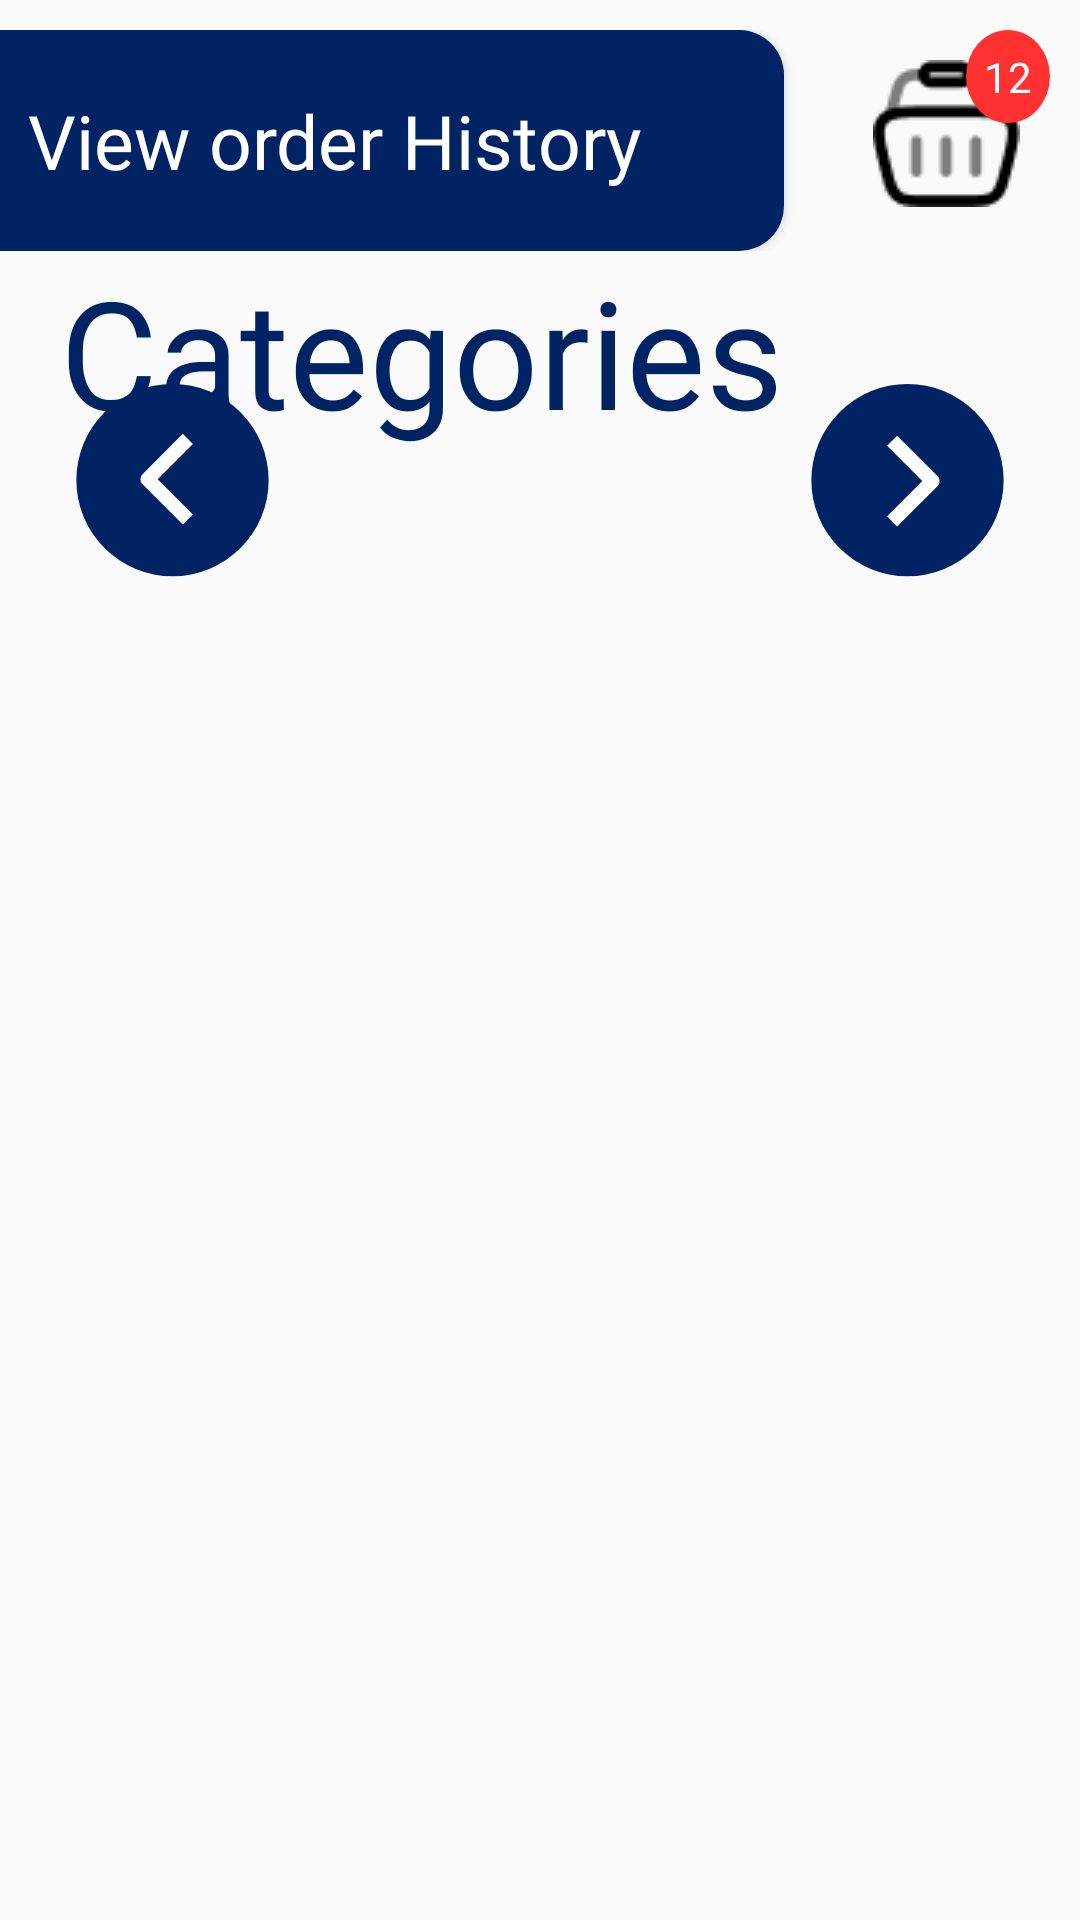

Point at icon controls on the screen. Image size 1080*1920, points as [x,y].
cart: [961,118]
circle left arrow: [178,480]
circle right arrow: [907,480]
